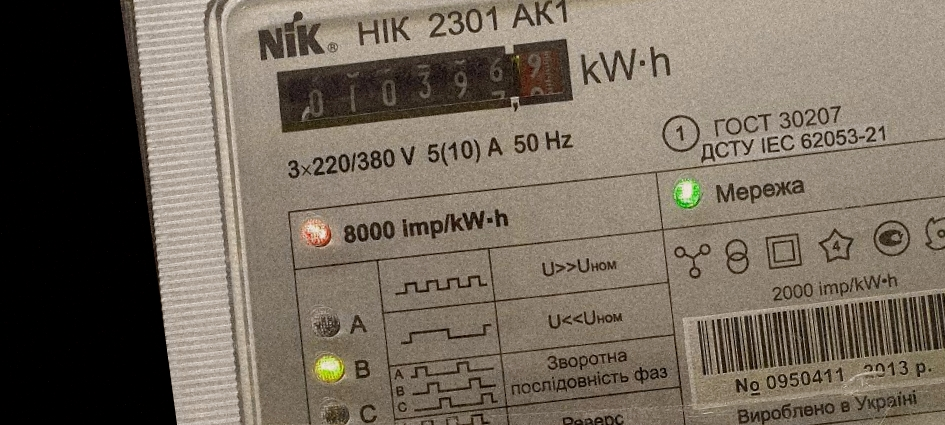0: (375, 74, 401, 109), (302, 84, 327, 119)
1: (343, 79, 360, 114)
3: (413, 67, 435, 102)
6: (483, 53, 508, 85)
9: (447, 66, 472, 102), (521, 49, 546, 82)
screen: (258, 19, 586, 154)
